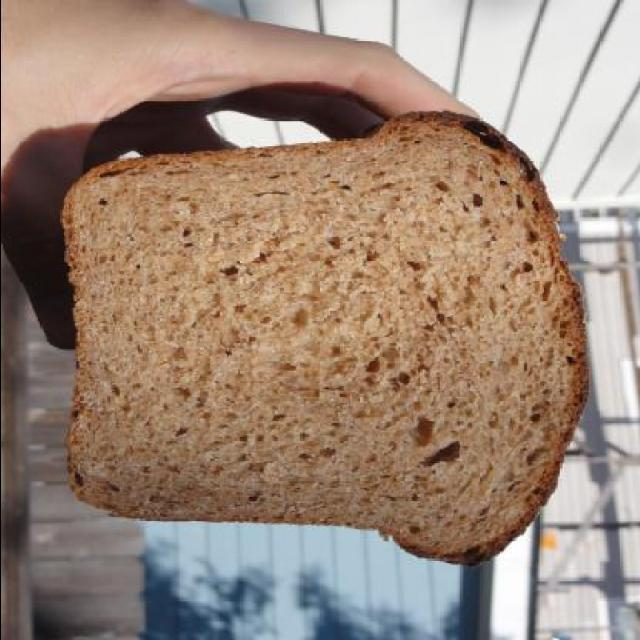Bread: (54, 106, 617, 528)
